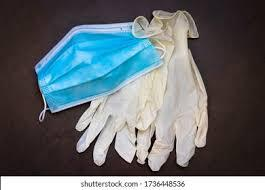Glove: (136, 11, 207, 170), (148, 11, 207, 170), (76, 65, 166, 165)
Mask: (35, 23, 160, 120)
